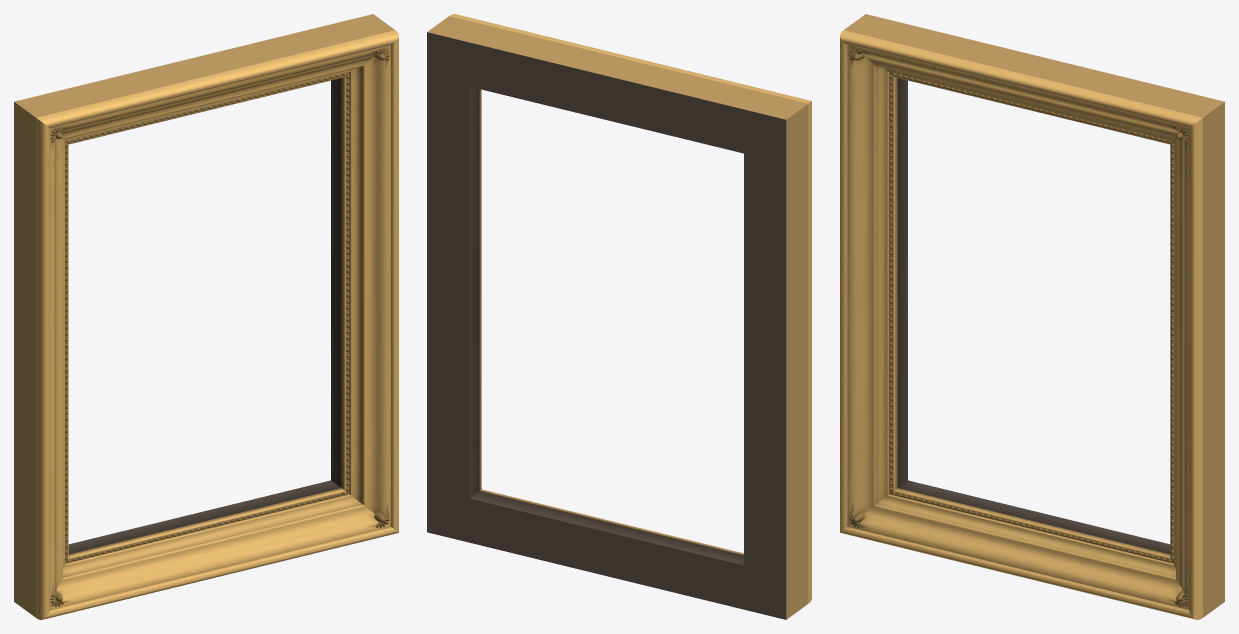
The model's file is 07-alenushka.glb.
3 renders of one model, left to right at view 1: azimuth 30°, elevation 25°; view 2: azimuth 150°, elevation 25°; view 3: azimuth 330°, elevation 25°, orthographic.
Visible parts, largest first — view 1: Frame; view 2: Frame; view 3: Frame.
Boxes of the visible parts, <box> form: Frame: <box>14,14,398,619</box>; Frame: <box>427,14,811,619</box>; Frame: <box>840,14,1224,619</box>.
Size of the model in its own units: 0.8981 by 1.19 by 0.1268.
